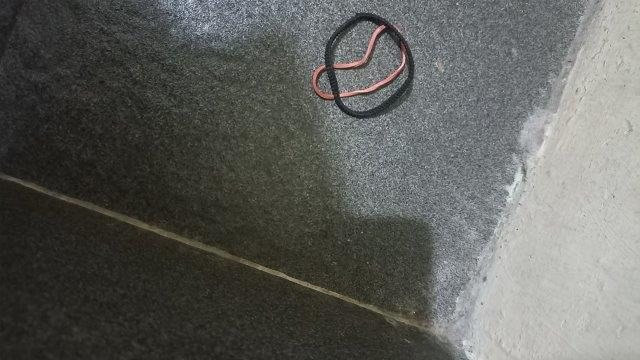karet: (311, 12, 415, 118)
